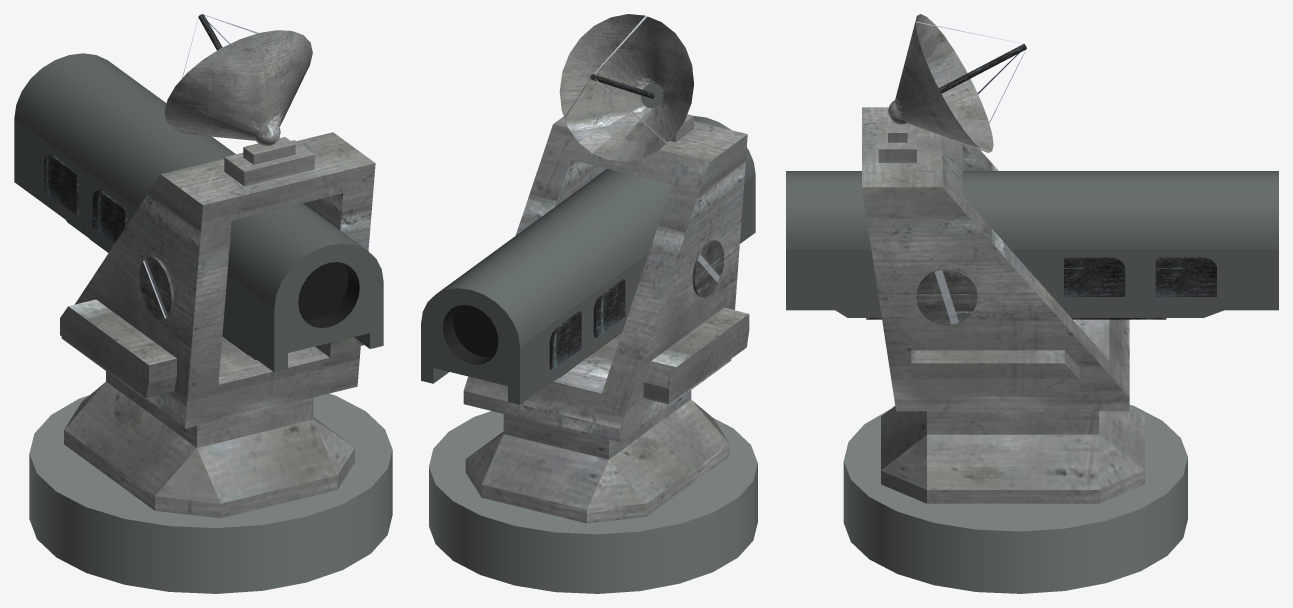
File: 导弹发射器[武器]贴图版.fbx
3 renders of one model, left to right at view 1: azimuth 30°, elevation 25°; view 2: azimuth 150°, elevation 25°; view 3: azimuth 270°, elevation 25°, orthographic. The views are drawn at different scales.
Parts seen in each view (by area): view 1: Group5, Group4, Group2, Group6; view 2: Group5, Group4, Group2, Group6; view 3: Group5, Group4, Group2, Group6.
Boxes of the visible parts, x1,y1,x2,y2 form: Group5: (60,132,375,518); Group4: (14,53,383,372); Group2: (29,393,392,593); Group6: (164,14,312,146); Group5: (463,114,749,523); Group4: (421,116,755,404); Group2: (429,411,757,593); Group6: (559,14,693,161); Group5: (862,107,1144,503); Group4: (786,171,1278,319); Group2: (843,405,1187,593); Group6: (888,14,1026,152).
Size of the model in its own units: 1.12 by 1.79 by 1.61.
